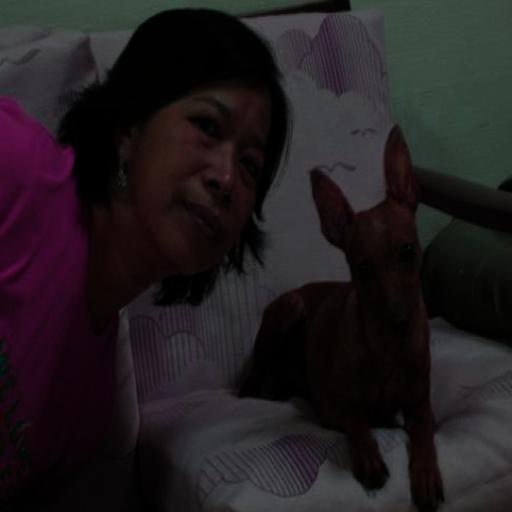dog_face: (310, 132, 425, 338)
